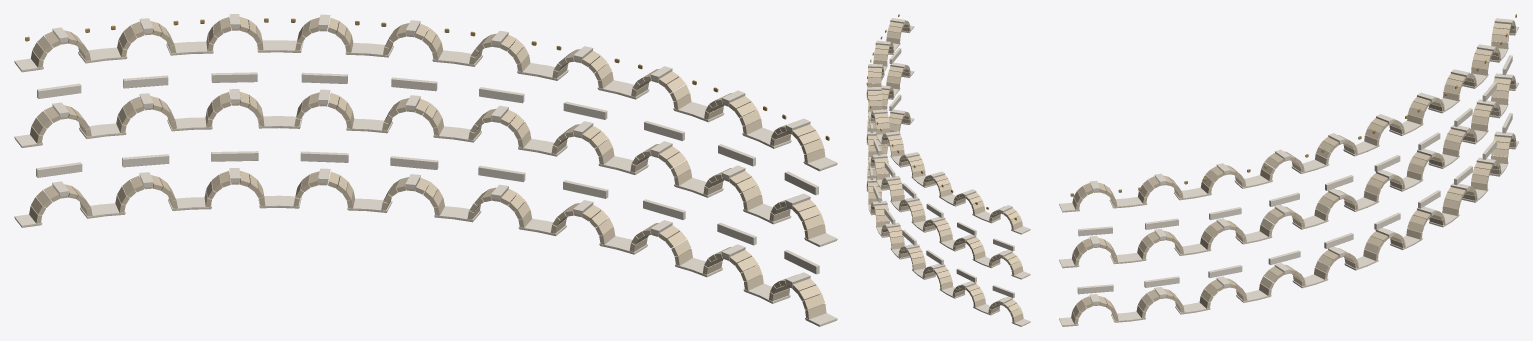
The model's file is COL_ExteriorArcade_Q4.glb.
3 views of the same model, side by side, from view 1: azimuth 30°, elevation 25°; view 2: azimuth 150°, elevation 25°; view 3: azimuth 270°, elevation 25° (orthographic). The views are drawn at different scales.
Parts seen in each view (by area): view 1: COL_ExteriorArcade_Q4; view 2: COL_ExteriorArcade_Q4; view 3: COL_ExteriorArcade_Q4.
Part boxes in pixels (box(x1,y1,x2,y2)): COL_ExteriorArcade_Q4: box(14, 14, 837, 326); COL_ExteriorArcade_Q4: box(866, 14, 1030, 326); COL_ExteriorArcade_Q4: box(1059, 14, 1518, 326).
Bounding box in the file's own units: 110 × 37.63 × 115.
